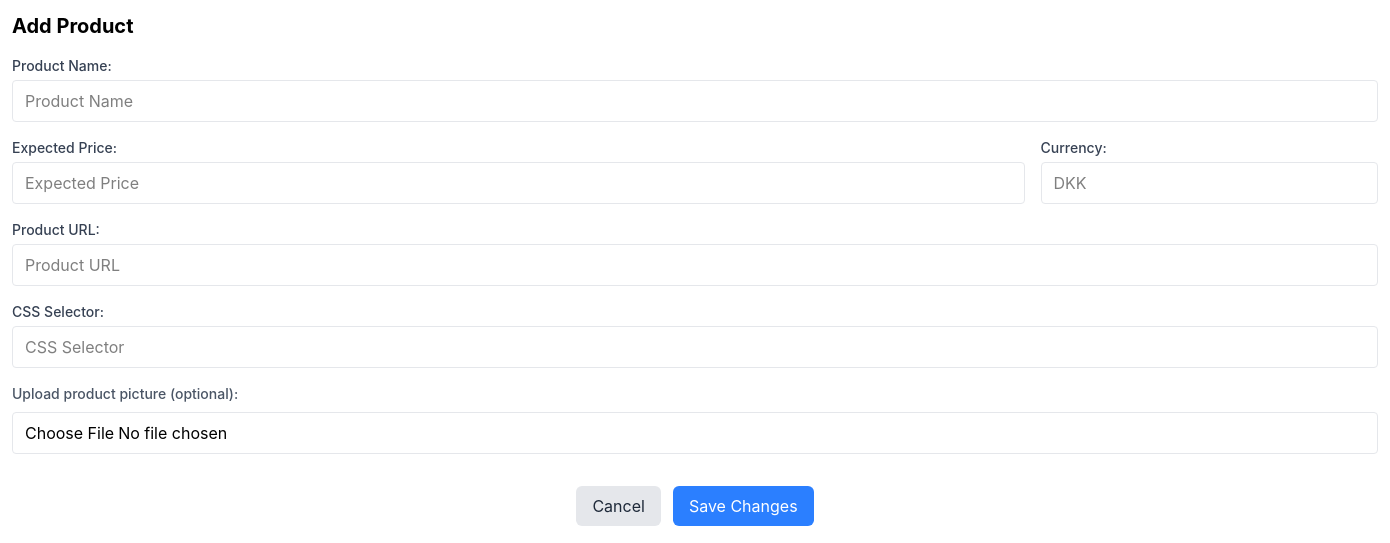
ProductForm › disables the submit button while submitting
Click the button "Save Changes" at (743, 506), box [673, 486, 814, 526]
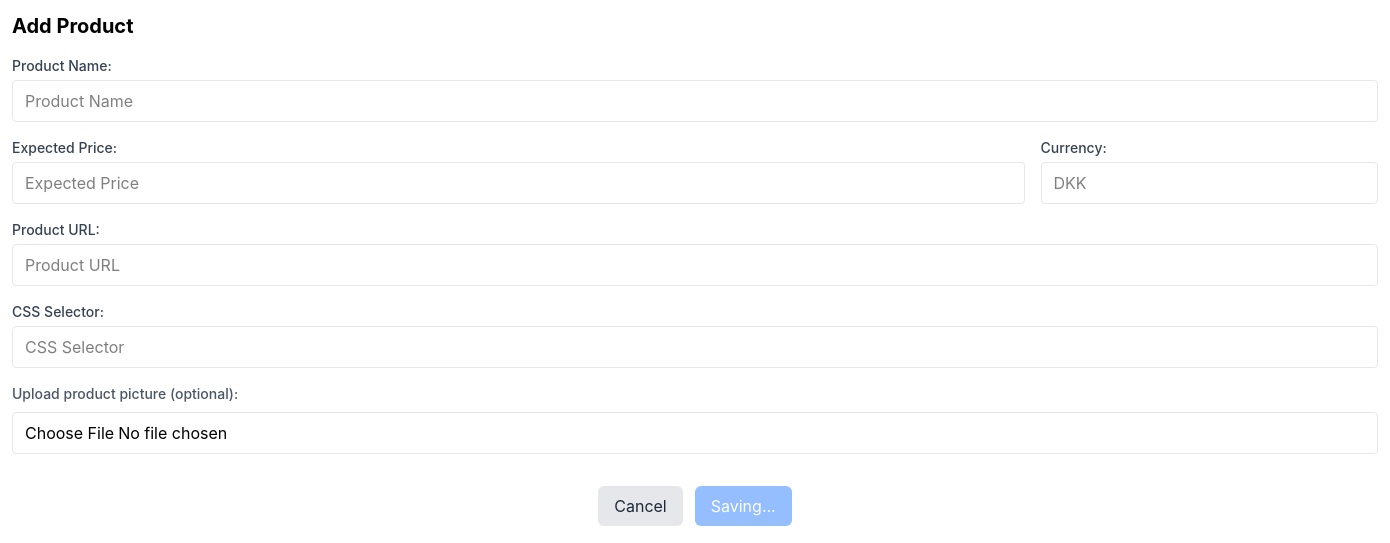
Check: the button "Saving..." is disabled, box [695, 486, 792, 526]
